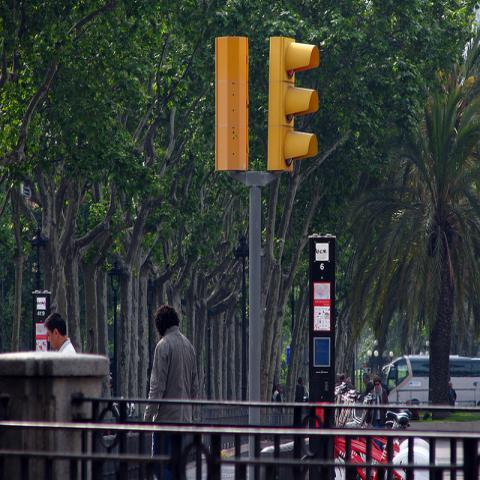bus: (382, 358, 479, 410)
